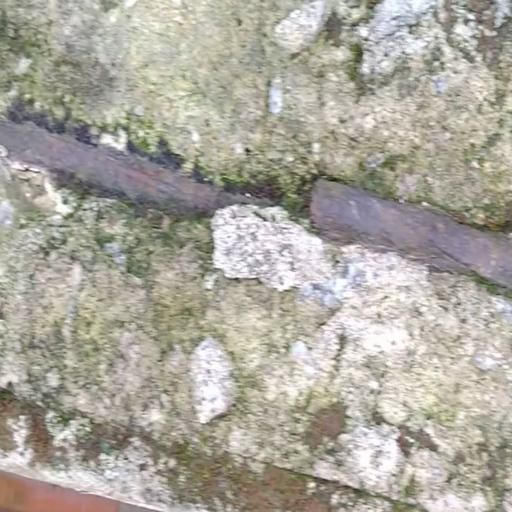spalling: (5, 83, 512, 304)
